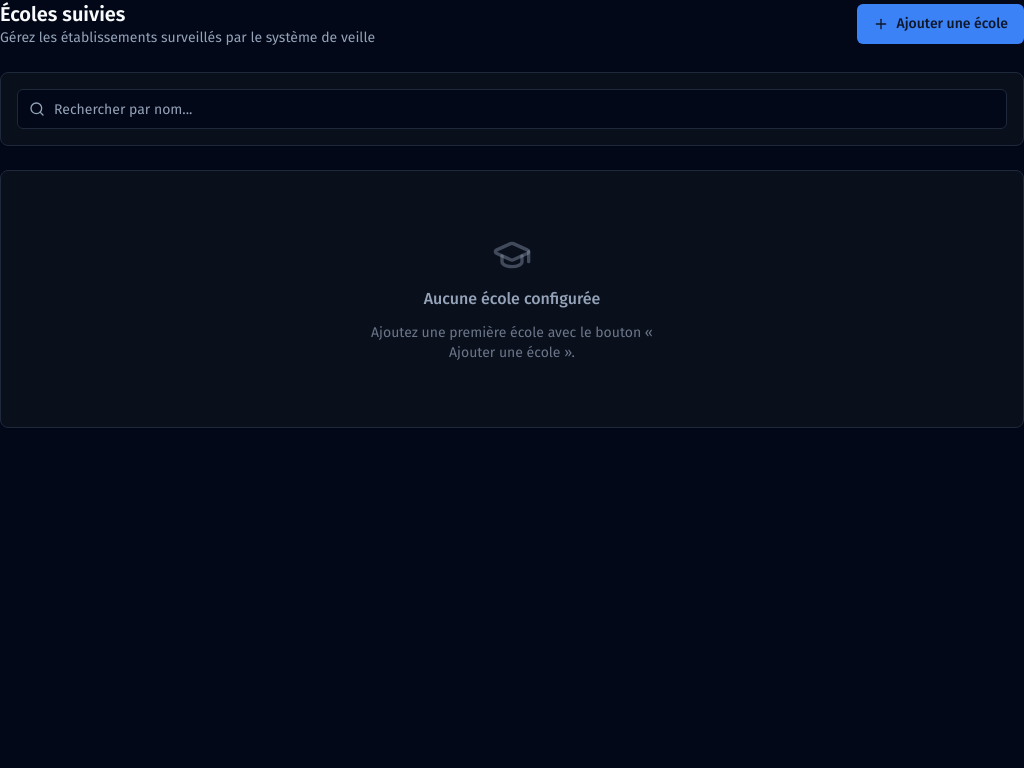
Test: SchoolFormDialog › shows error in dialog when test-connection fails and keeps dialog open
The width and height of the screenshot is (1024, 768).
expect the text "Aucune école configurée" is shown: met, box [424,287,600,311]
Step 1. Click the button "Ajouter une école" → [940, 24], box [856,4,1023,44]
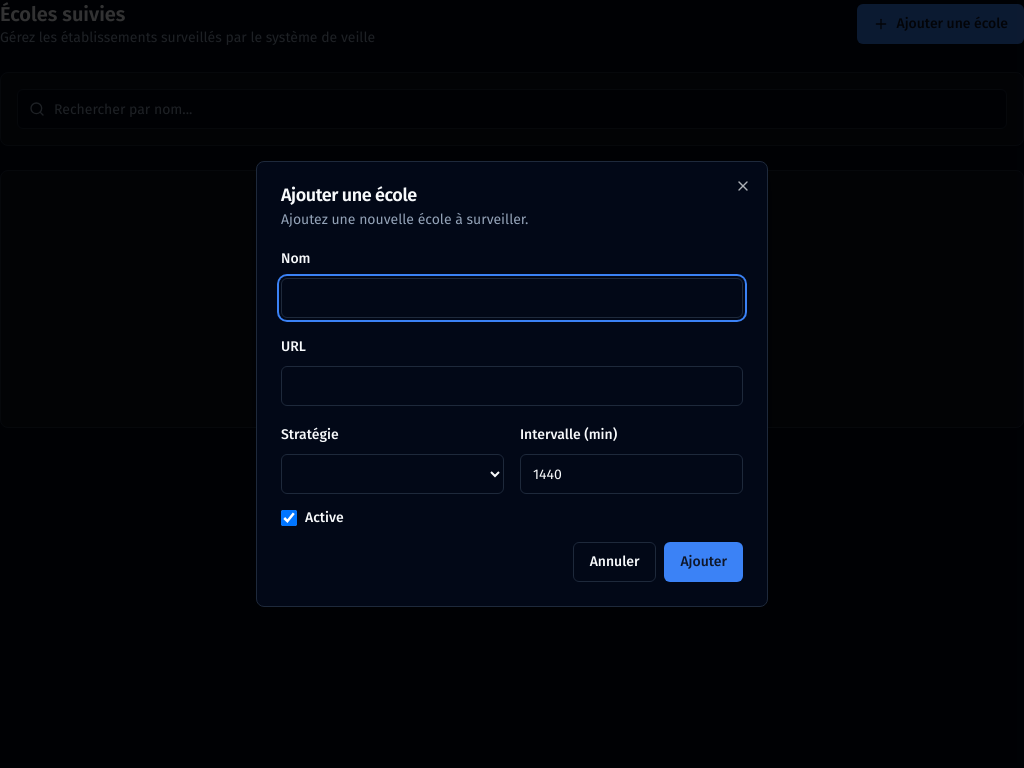
Step 2. Type "Site KO" into the field labelled "Nom" → [512, 298], box [281,278,743,318]
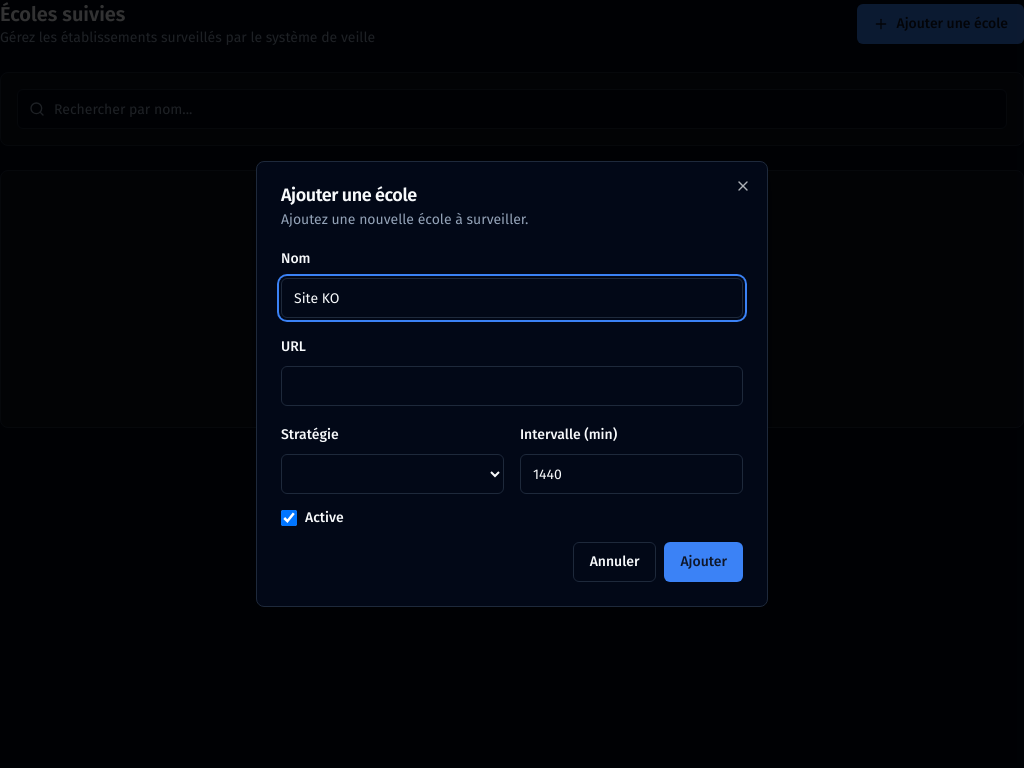
Step 3. Type "https://ko.example.com" into the field labelled "URL" → [512, 386], box [281,366,743,406]
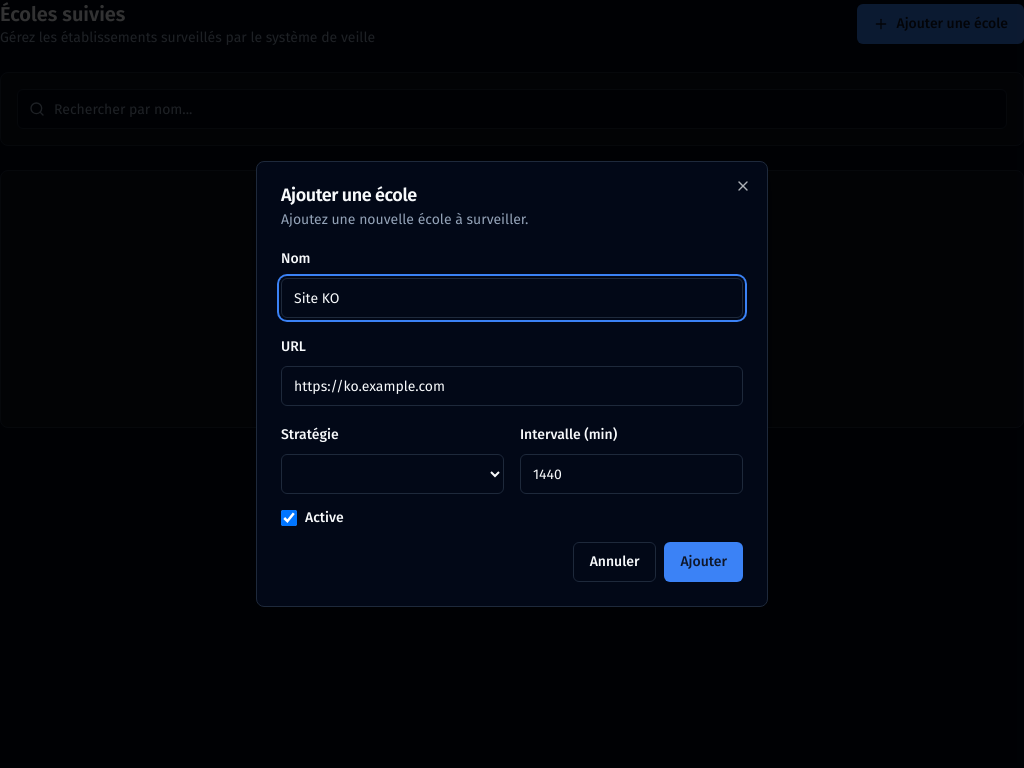
Step 4. Click the button "Ajouter" → [704, 562], box [664,542,743,582]
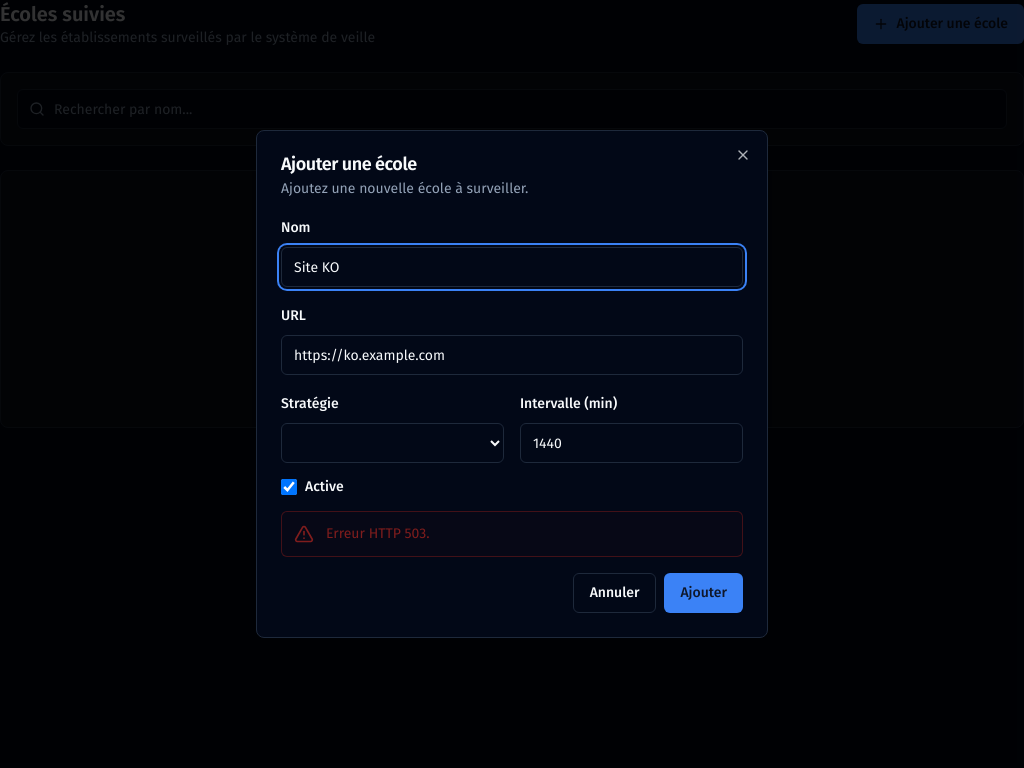
expect the button "Ajouter" is shown: met, box [664,573,743,613]
expect the text "Erreur HTTP 503." is shown: met, box [326,524,430,544]
